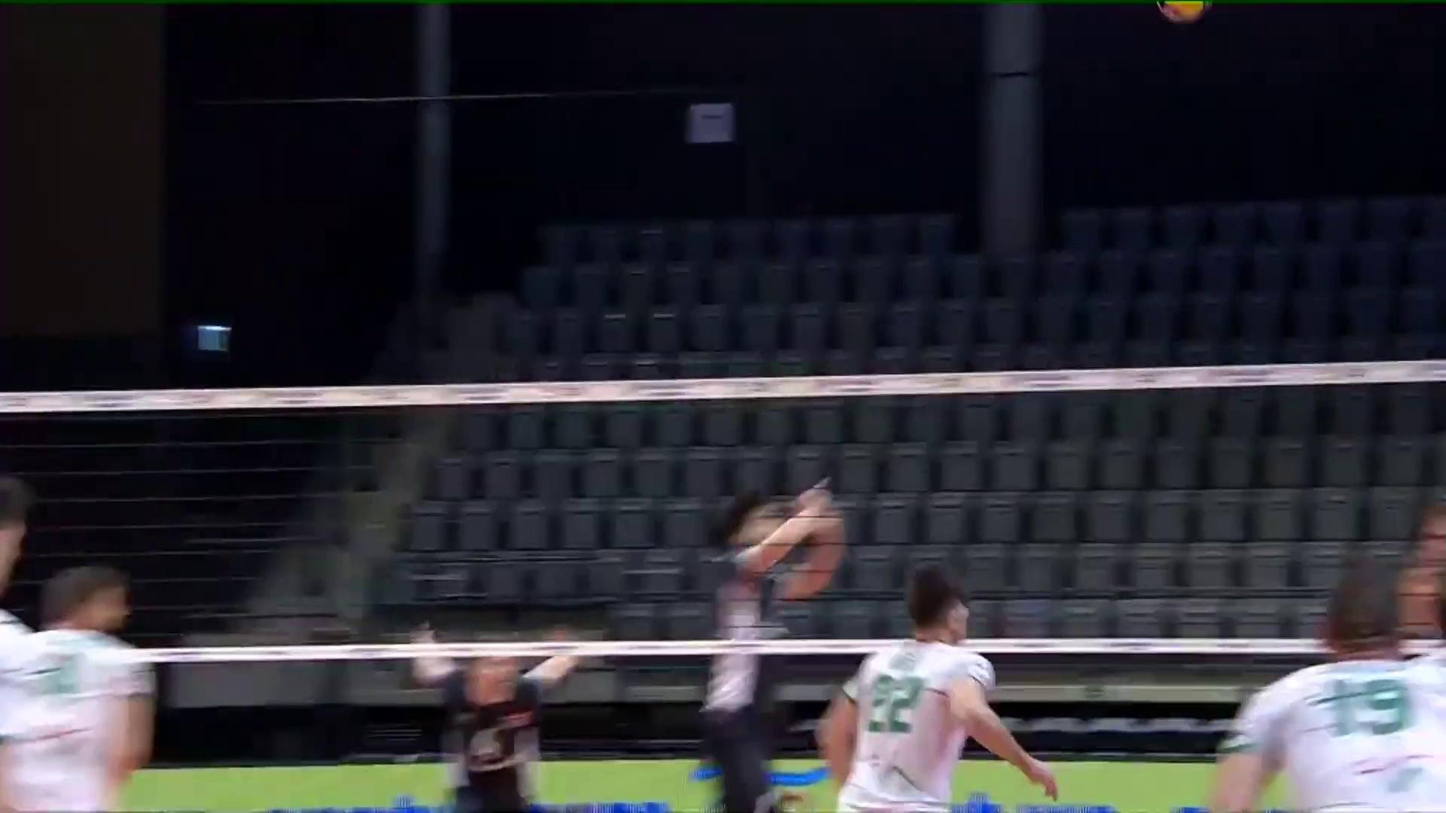ball: (1150, 0, 1211, 25)
